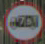Heavy Vehicles: (2, 3, 44, 41)
